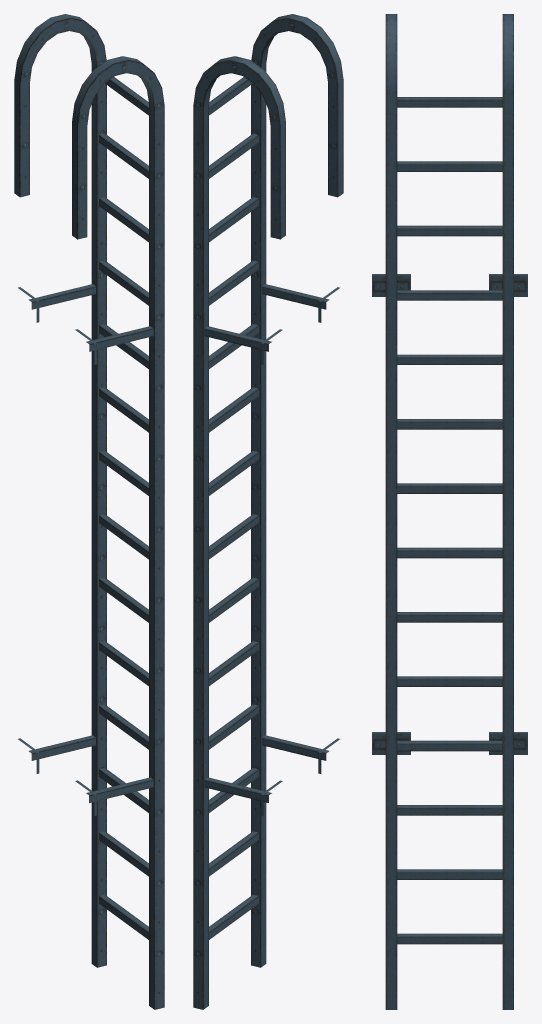
The model's file is Ladder.glb.
3 views of the same model, side by side, from view 1: azimuth 30°, elevation 25°; view 2: azimuth 150°, elevation 25°; view 3: azimuth 270°, elevation 25° (orthographic).
Visible parts, largest first — view 1: Ladder; view 2: Ladder; view 3: Ladder.
Part boxes in pixels (<box>): Ladder: <box>14,14,164,1009</box>; Ladder: <box>193,14,343,1009</box>; Ladder: <box>372,14,527,1009</box>.
Bounding box in the file's own units: 0.6603 × 6.93 × 1.01.
Materials: 1 (1 with a texture image).
